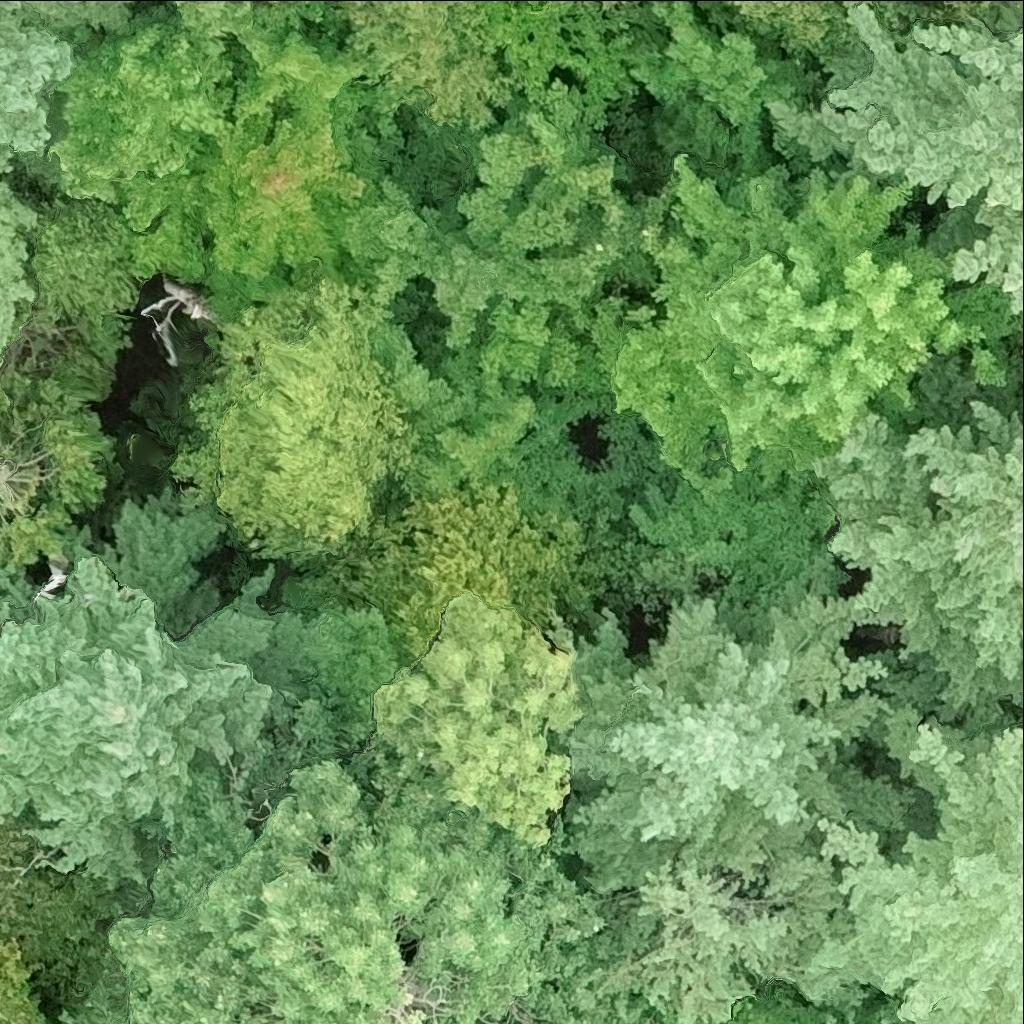crown: (84, 755, 652, 1023), (584, 160, 1023, 473), (0, 504, 276, 888), (555, 590, 908, 889), (108, 34, 405, 309), (366, 83, 659, 351), (164, 278, 437, 558), (369, 579, 611, 860), (819, 0, 1023, 314), (820, 404, 1023, 711), (587, 817, 877, 1023), (827, 720, 1023, 1023), (399, 295, 616, 542), (29, 5, 230, 200), (605, 0, 822, 161), (0, 0, 76, 346), (18, 194, 163, 365), (160, 0, 371, 94), (294, 600, 409, 768), (703, 0, 917, 88), (315, 0, 468, 112), (506, 0, 636, 131), (419, 0, 526, 136), (142, 282, 220, 363), (22, 0, 132, 44), (946, 0, 1013, 28), (293, 0, 328, 38), (532, 0, 546, 2), (1022, 344, 1023, 355)
